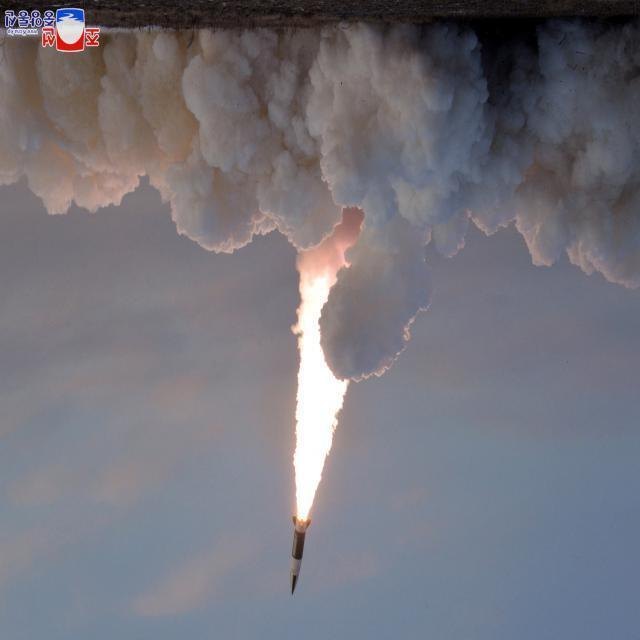Missile: (283, 518, 310, 604)
